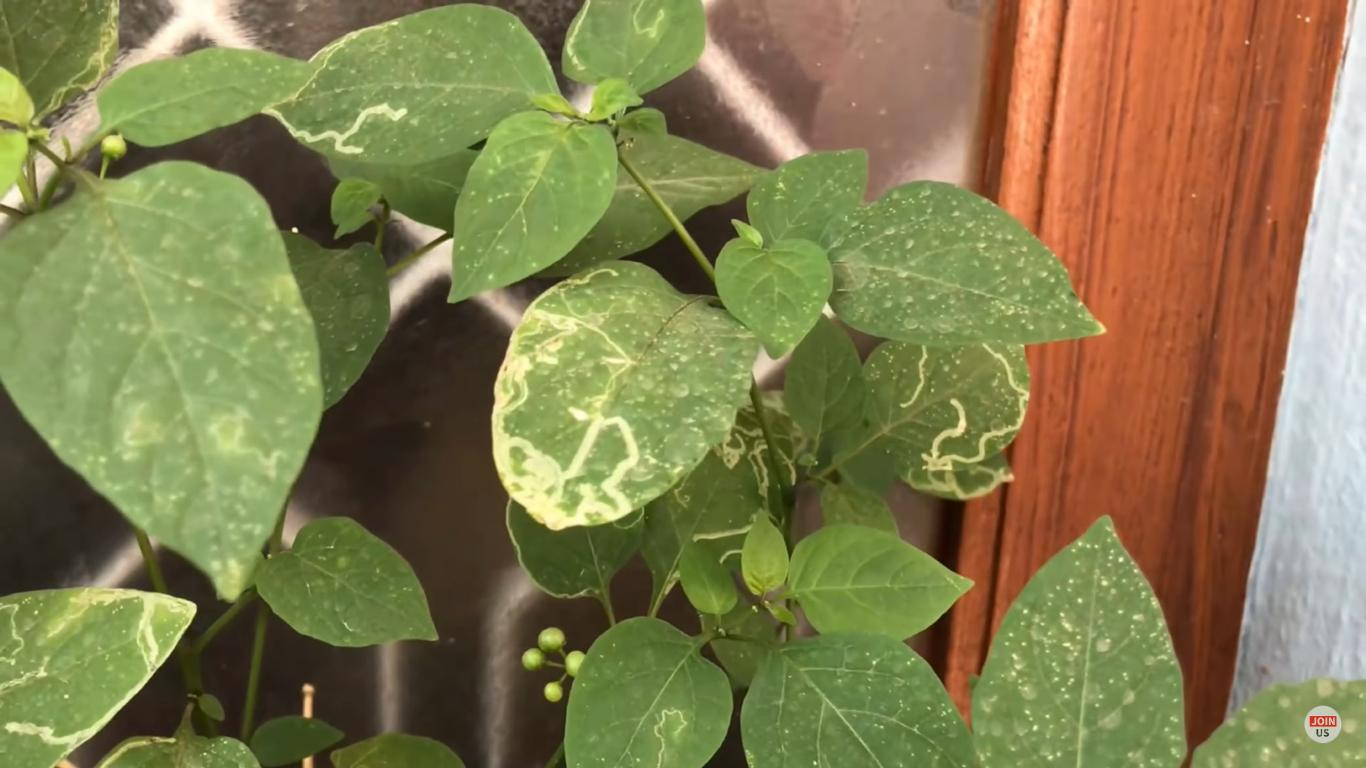Leaf_Miner: (488, 252, 766, 538), (256, 0, 556, 166), (0, 582, 200, 768), (852, 320, 1032, 504), (637, 392, 769, 593), (562, 616, 736, 768), (558, 0, 712, 96)
